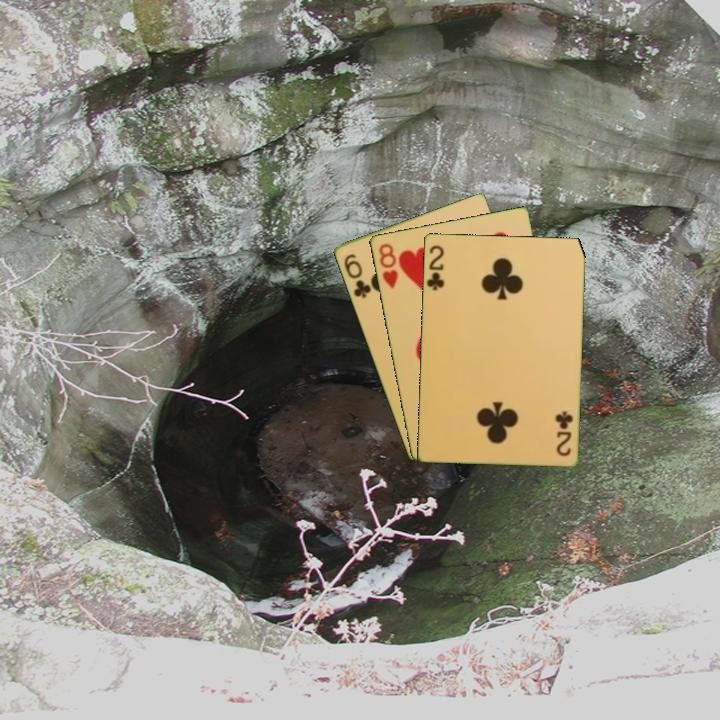2c: (423, 241, 447, 293), (553, 407, 575, 459)
6c: (340, 250, 374, 301)
8h: (375, 240, 400, 291)
